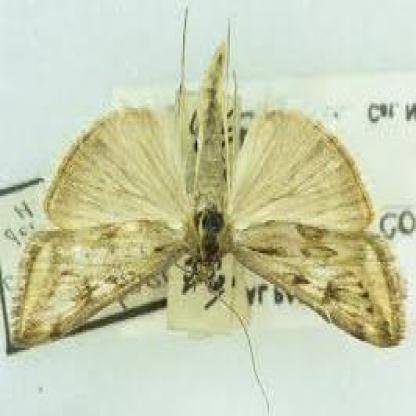Leaf Webber: (7, 25, 404, 352)
